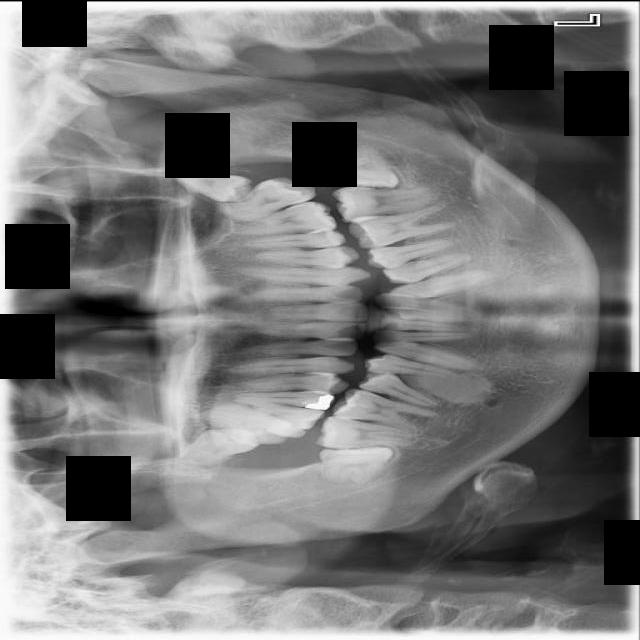3M ESPE Implant: (178, 422, 261, 468)
52: (295, 388, 336, 410)
73: (578, 16, 638, 28)
BioHorizons Implant: (209, 164, 320, 232)
BioLife Implant: (164, 159, 254, 208)
Biomet 3i Implant: (323, 141, 401, 190)
Blue Sky Bio Implant: (331, 184, 433, 223)
Caries: (194, 388, 300, 461)
Implant: (316, 415, 414, 448)
Keystone Dental Implant: (318, 444, 395, 485)
